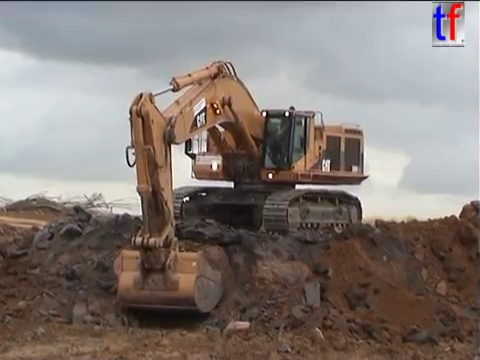excavator: (109, 57, 371, 320)
